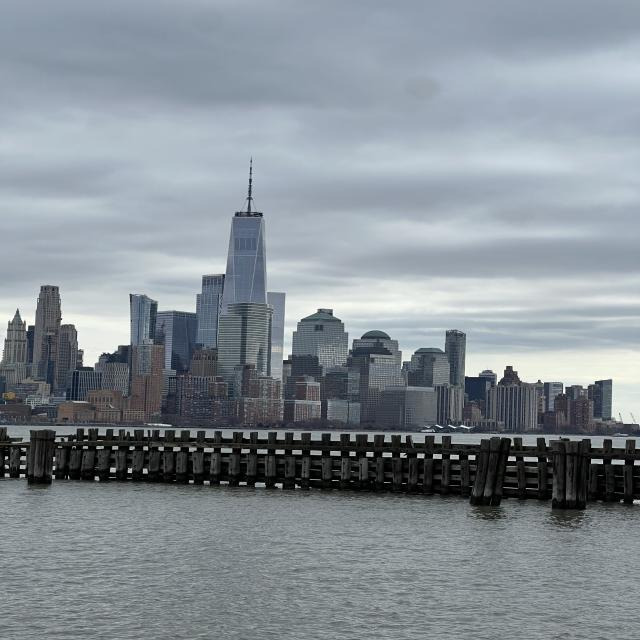WTC: (222, 160, 268, 304)
